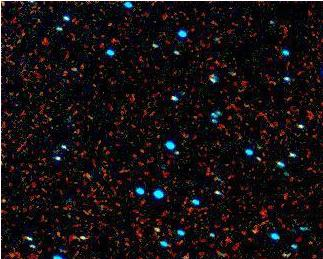star: (240, 218, 270, 248)
